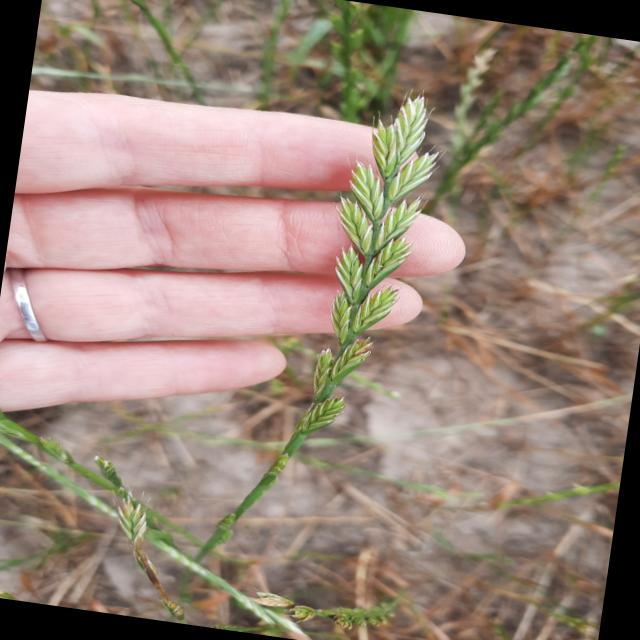Lolium: (0, 400, 409, 640), (300, 84, 456, 454), (429, 19, 590, 213), (90, 0, 221, 111), (250, 0, 291, 115)
